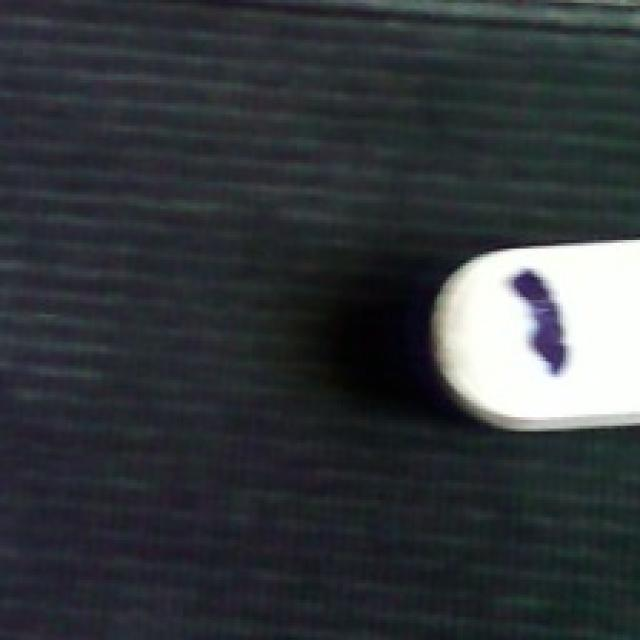defected: (423, 232, 637, 432)
